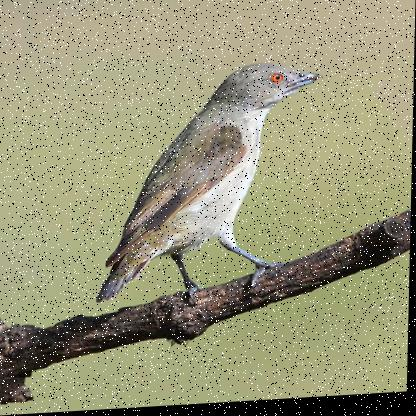Burung: (96, 63, 324, 316)
